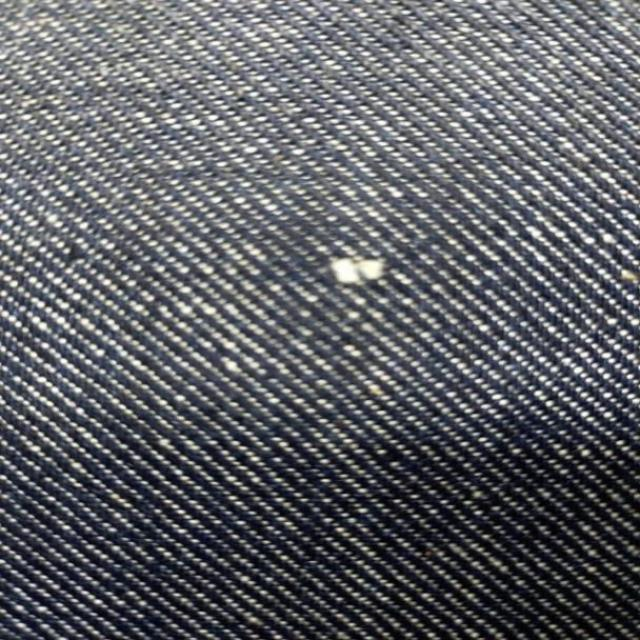Knot: (332, 258, 385, 284)
